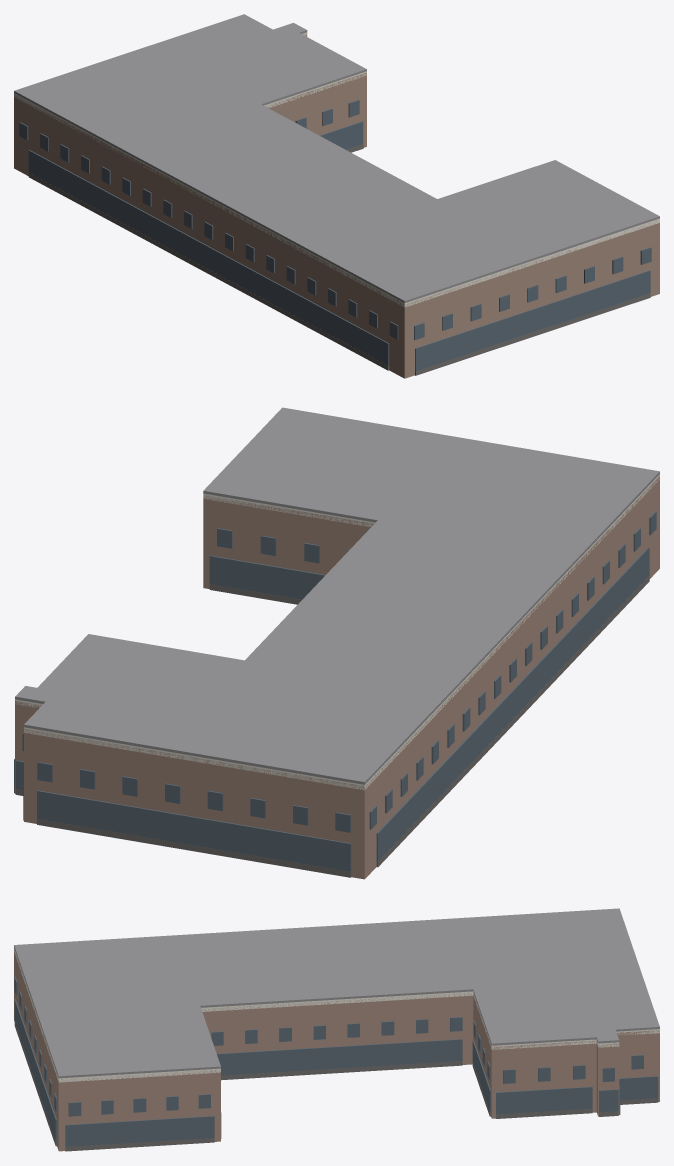
The model's file is s25_gis_247819_820872.glb.
3 renders of one model, top to bottom at view 1: azimuth 30°, elevation 25°; view 2: azimuth 150°, elevation 25°; view 3: azimuth 270°, elevation 25°, orthographic. The views are drawn at different scales.
Visible parts, largest first — view 1: roofcap, mass, store_0, store_1, cornice, bulk_0, bulk_1, store_5; view 2: roofcap, mass, store_11, store_0, cornice, store_3, bulk_11, bulk_0; view 3: roofcap, mass, store_4, store_2, cornice, store_6, bulk_4, store_1, store_10, bulk_2, bulk_6, store_5 (+1 smaller).
Boxes of the visible parts, box(x1,y1,x2,y2) form: roofcap: box(14, 14, 659, 302); mass: box(14, 34, 659, 378); store_0: box(28, 150, 389, 367); store_1: box(415, 270, 650, 371); cornice: box(14, 32, 659, 307); bulk_0: box(28, 173, 389, 370); bulk_1: box(415, 293, 650, 375); store_5: box(320, 121, 363, 149); roofcap: box(15, 407, 659, 784); mass: box(15, 476, 659, 879); store_11: box(37, 790, 351, 874); store_0: box(376, 547, 649, 864); cornice: box(15, 474, 659, 790); store_3: box(209, 555, 325, 599); bulk_11: box(37, 819, 351, 877); bulk_0: box(376, 576, 649, 867); roofcap: box(14, 908, 659, 1078); mass: box(14, 950, 659, 1151); store_4: box(217, 1039, 462, 1075); store_2: box(65, 1116, 214, 1146); cornice: box(14, 948, 659, 1082); store_6: box(496, 1086, 592, 1114); bulk_4: box(221, 1061, 462, 1080); store_1: box(14, 999, 56, 1141); store_10: box(619, 1076, 658, 1100); bulk_2: box(65, 1138, 214, 1151); bulk_6: box(496, 1108, 592, 1118); store_5: box(472, 1040, 490, 1112).
Size of the model in its own units: 40.07 by 8.35 by 65.11.
